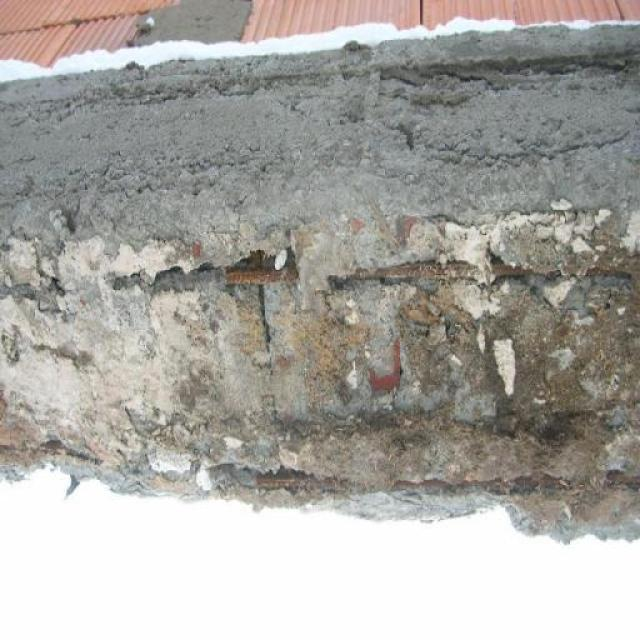D0w0: (0, 21, 639, 542)
